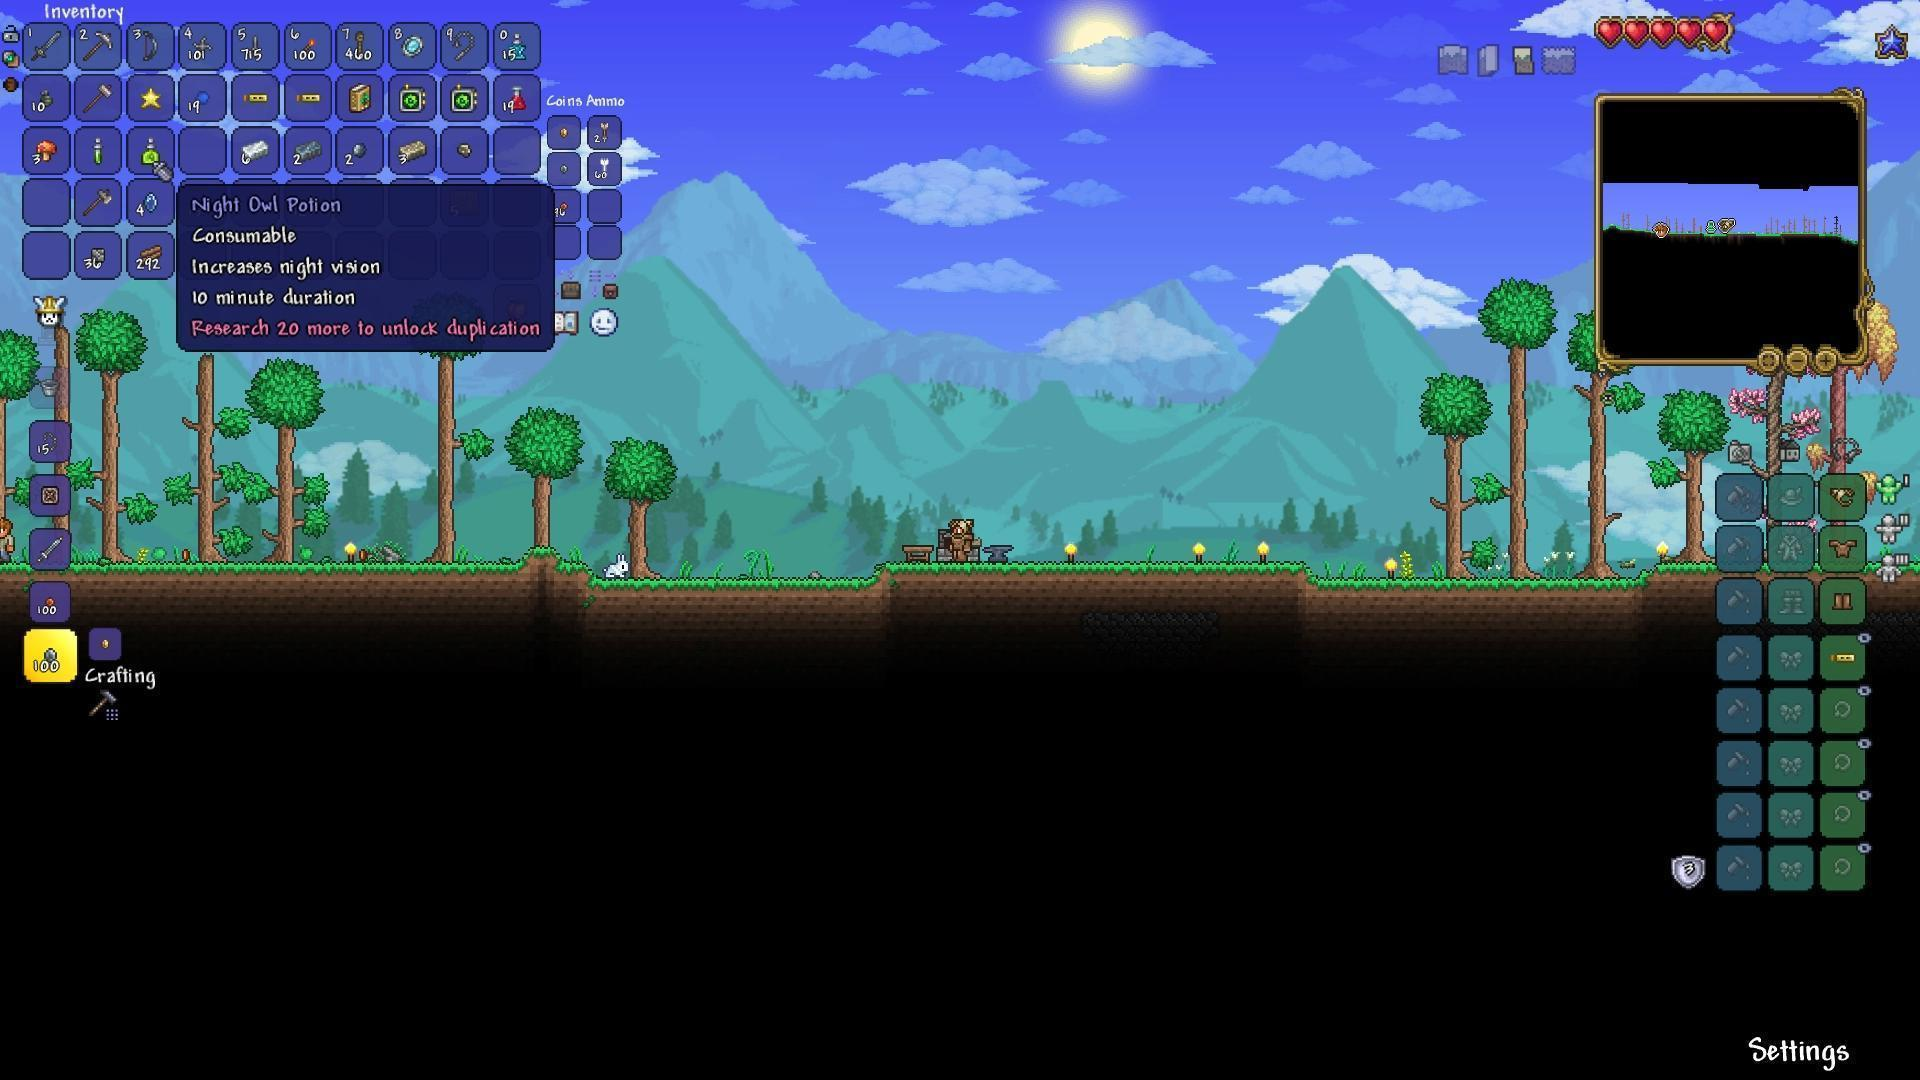anvil: (980, 535, 1019, 564)
axe: (83, 186, 113, 216)
bow: (142, 26, 160, 65)
breastplate: (1829, 538, 1861, 559)
gel: (193, 86, 211, 105)
grenade: (41, 84, 53, 105)
helmet: (1829, 485, 1861, 509)
knife: (252, 32, 260, 55)
legs: (1830, 591, 1855, 612)
lens: (141, 190, 161, 214)
pickaxe: (84, 30, 116, 59)
rope: (353, 29, 367, 57)
shuriken: (193, 36, 210, 55)
sword: (36, 535, 65, 566)
